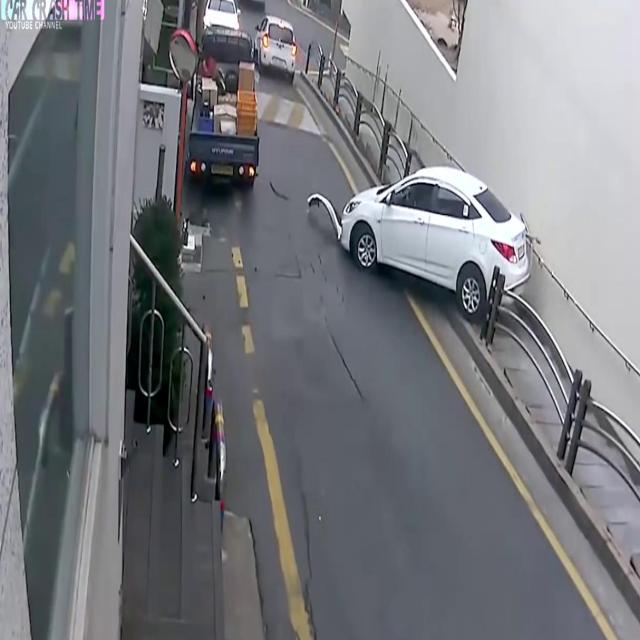accident: (303, 153, 541, 331)
non_accident: (173, 0, 303, 202)
